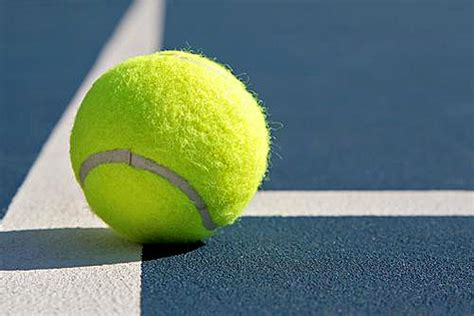tennis_ball: (69, 49, 270, 243)
